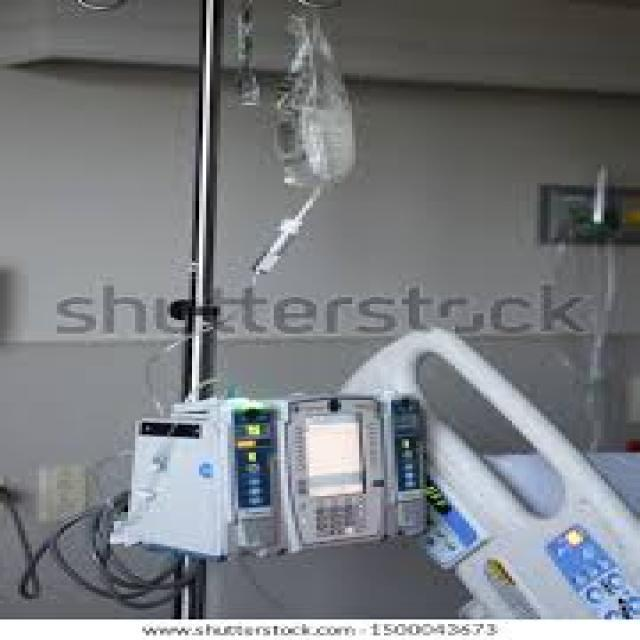iv_fluids: (257, 42, 373, 292)
